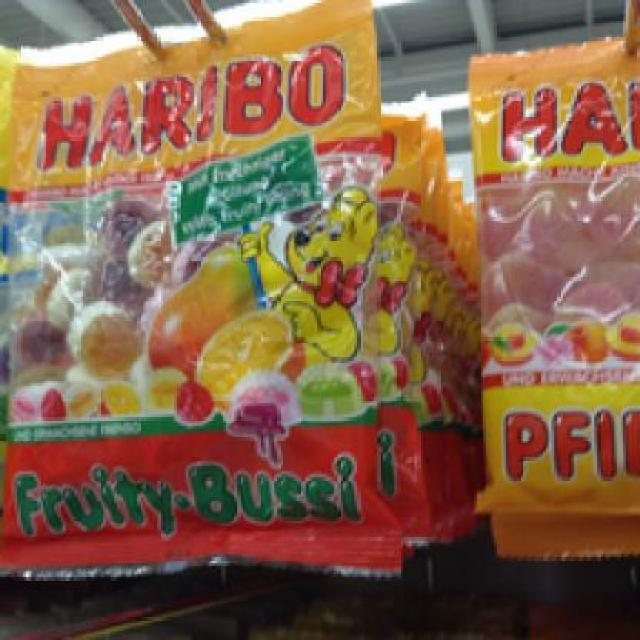Candy: (0, 0, 372, 572), (462, 46, 638, 534)
